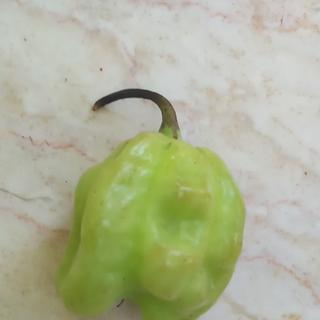Grade-B: (54, 127, 245, 317)
